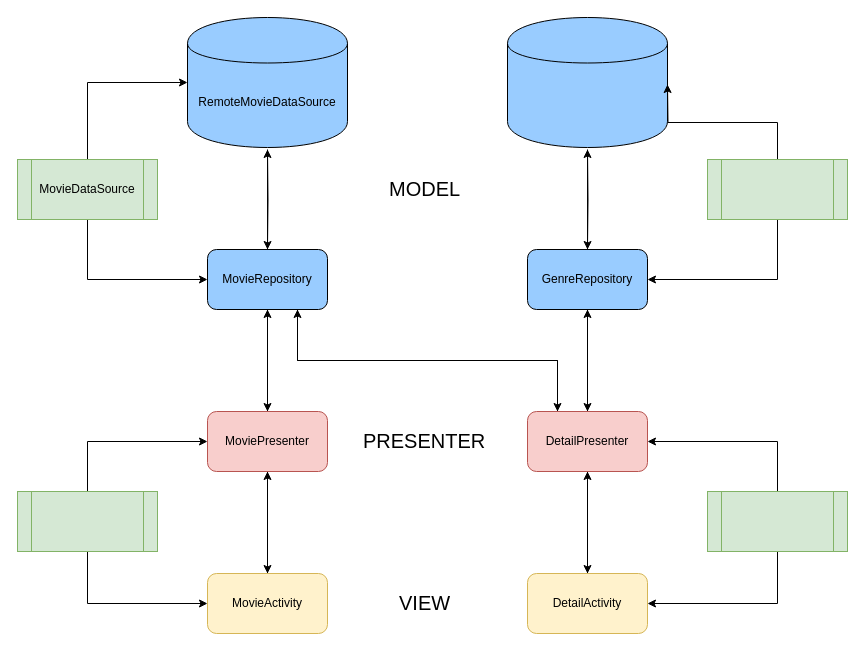
Image size: 865x651. Some labels were removed from this diagram. Each missing label, with the box of its shape:
DetailContract: (706, 490, 848, 552)
GenreDataSource: (706, 158, 848, 220)
MovieContract: (16, 490, 158, 552)
RemoteGenreDataSource: (506, 16, 668, 148)
